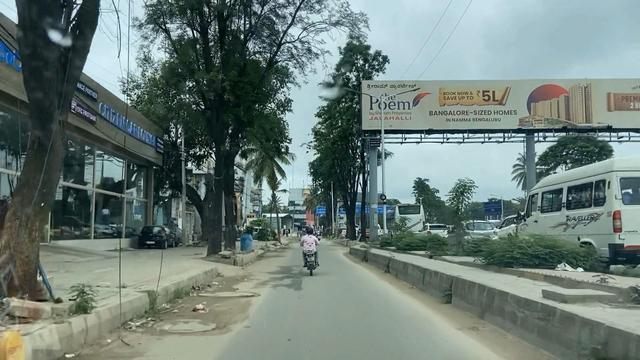RoadDamages: (138, 313, 237, 341), (179, 279, 269, 308)
